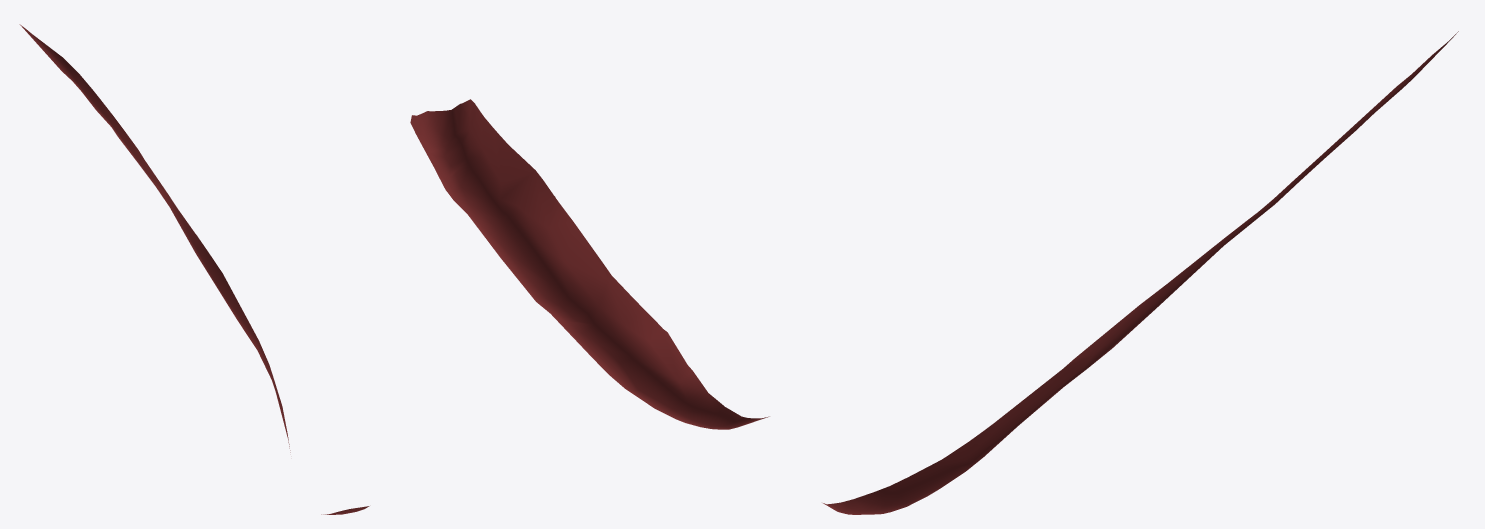
The model's file is internal-abdominal-oblique-muscle-o4l.glb.
3 renders of one model, left to right at view 1: azimuth 30°, elevation 25°; view 2: azimuth 150°, elevation 25°; view 3: azimuth 270°, elevation 25°, orthographic. The views are drawn at different scales.
Parts seen in each view (by area): view 1: Internal abdominal oblique muscle.o4l; view 2: Internal abdominal oblique muscle.o4l; view 3: Internal abdominal oblique muscle.o4l.
Boxes of the visible parts, bbox=[...] form: Internal abdominal oblique muscle.o4l: bbox=[19, 24, 369, 514]; Internal abdominal oblique muscle.o4l: bbox=[410, 99, 769, 429]; Internal abdominal oblique muscle.o4l: bbox=[823, 31, 1458, 514].
Size of the model in its own units: 0.0113 by 0.0282 by 0.0377.
